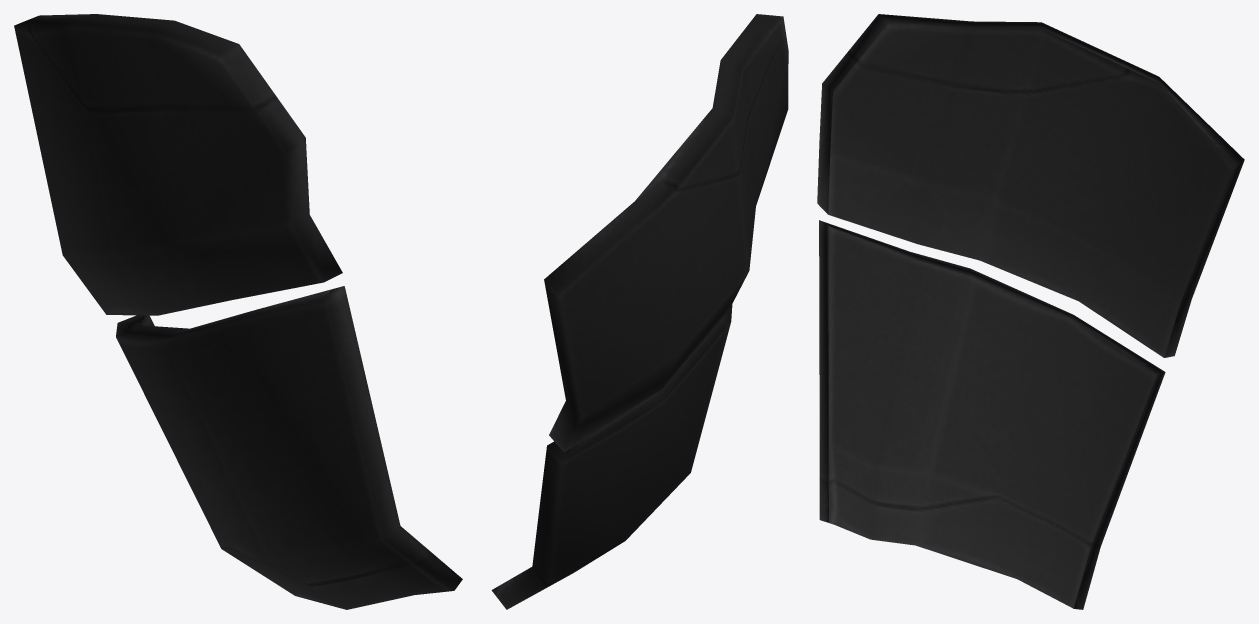
Rendered from pinger_plate_motor_left.dae.
3 views of the same model, side by side, from view 1: azimuth 30°, elevation 25°; view 2: azimuth 150°, elevation 25°; view 3: azimuth 270°, elevation 25° (orthographic). The views are drawn at different scales.
Parts seen in each view (by area): view 1: pinger_plate_motor_left; view 2: pinger_plate_motor_left; view 3: pinger_plate_motor_left.
Part boxes in pixels (left/top/right/bottom): pinger_plate_motor_left: left=14, top=14, right=462, bottom=609; pinger_plate_motor_left: left=491, top=14, right=788, bottom=609; pinger_plate_motor_left: left=817, top=14, right=1244, bottom=609.
Bounding box in the file's own units: 0.5796 × 1.02 × 1.37.
1 material, 1 textured.
